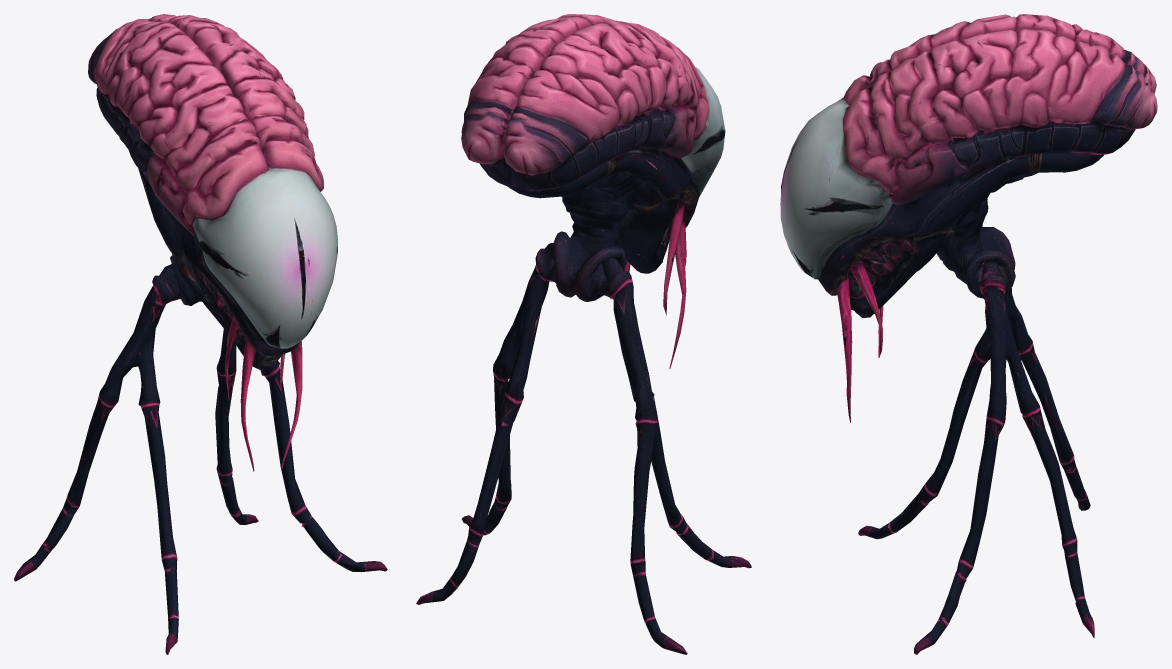
The model's file is psy.glb.
3 renders of one model, left to right at view 1: azimuth 30°, elevation 25°; view 2: azimuth 150°, elevation 25°; view 3: azimuth 270°, elevation 25°, orthographic. The views are drawn at different scales.
Size of the model in its own units: 1.07 by 1.91 by 1.16.
1 material, 1 textured.
